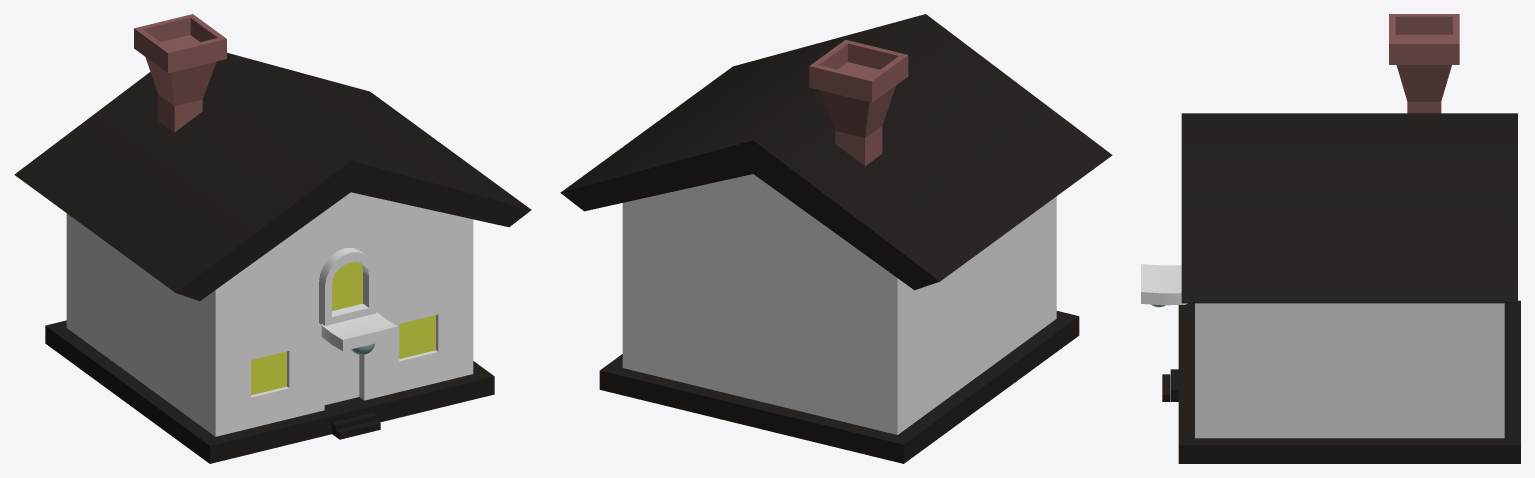
File: House_8.fbx
3 renders of one model, left to right at view 1: azimuth 30°, elevation 25°; view 2: azimuth 150°, elevation 25°; view 3: azimuth 270°, elevation 25°, orthographic. The views are drawn at different scales.
Parts seen in each view (by area): view 1: polySurface11; view 2: polySurface11; view 3: polySurface11.
Boxes of the visible parts, x1,y1,x2,y2 form: polySurface11: [14, 14, 531, 463]; polySurface11: [560, 14, 1112, 463]; polySurface11: [1141, 14, 1520, 463].
Bounding box in the file's own units: 31.09 × 26.9 × 27.61.
